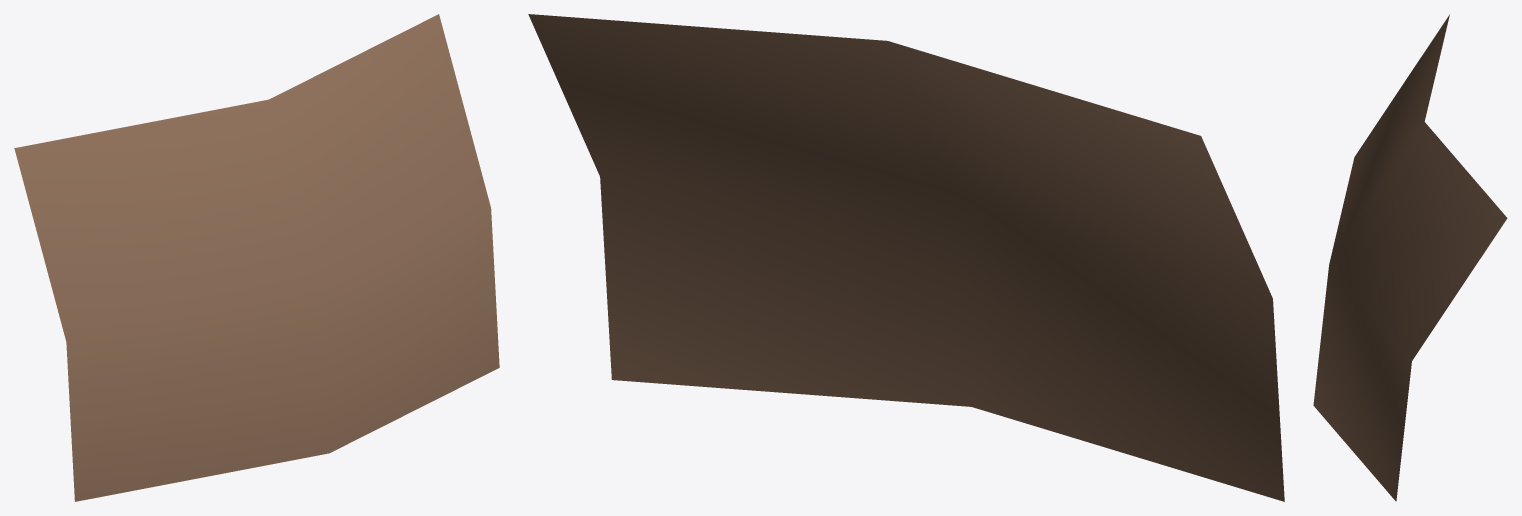
File: GrassPlane_b_TwoS_03.fbx
The picture shows the model from 3 angles, left to right: view 1: azimuth 30°, elevation 25°; view 2: azimuth 150°, elevation 25°; view 3: azimuth 270°, elevation 25°; orthographic projection. The views are drawn at different scales.
Parts seen in each view (by area): view 1: GrassPlane_b_TwoS_03; view 2: GrassPlane_b_TwoS_03; view 3: GrassPlane_b_TwoS_03.
Boxes of the visible parts, x1,y1,x2,y2 form: GrassPlane_b_TwoS_03: (14,14,499,501); GrassPlane_b_TwoS_03: (528,14,1284,501); GrassPlane_b_TwoS_03: (1313,14,1507,501).
Size of the model in its own units: 75.07 by 48.67 by 30.16.
